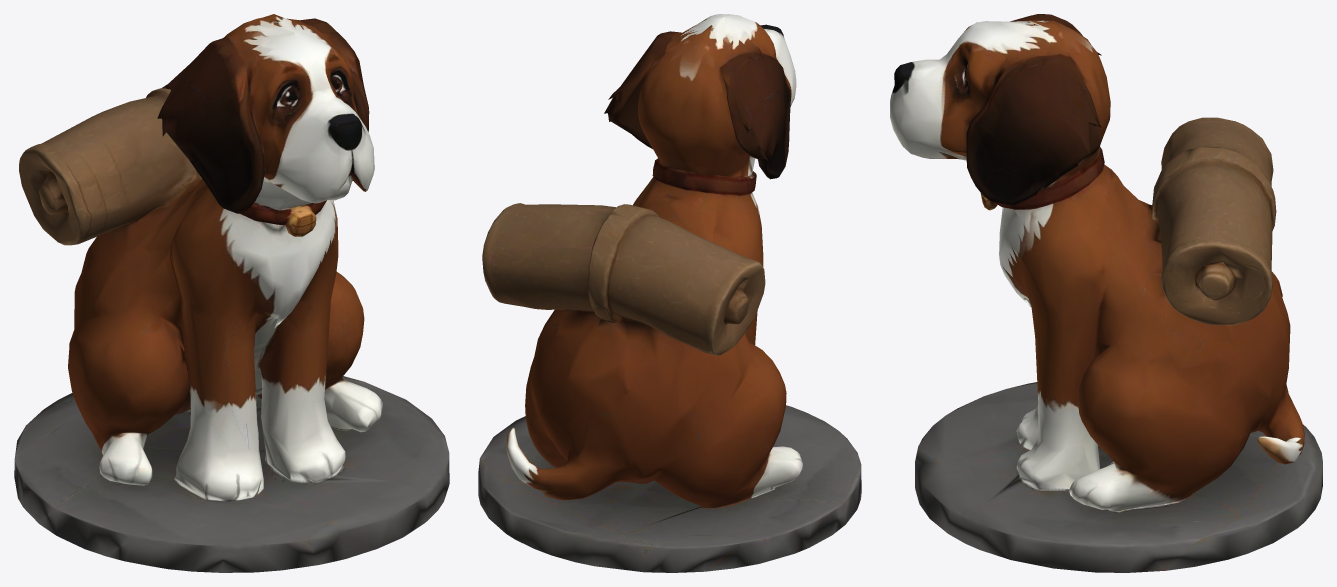
File: token-st-bernard.glb
3 views of the same model, side by side, from view 1: azimuth 30°, elevation 25°; view 2: azimuth 150°, elevation 25°; view 3: azimuth 270°, elevation 25° (orthographic). The views are drawn at different scales.
Size of the model in its own units: 1.51 by 1.9 by 1.6.
1 material, 1 textured.
